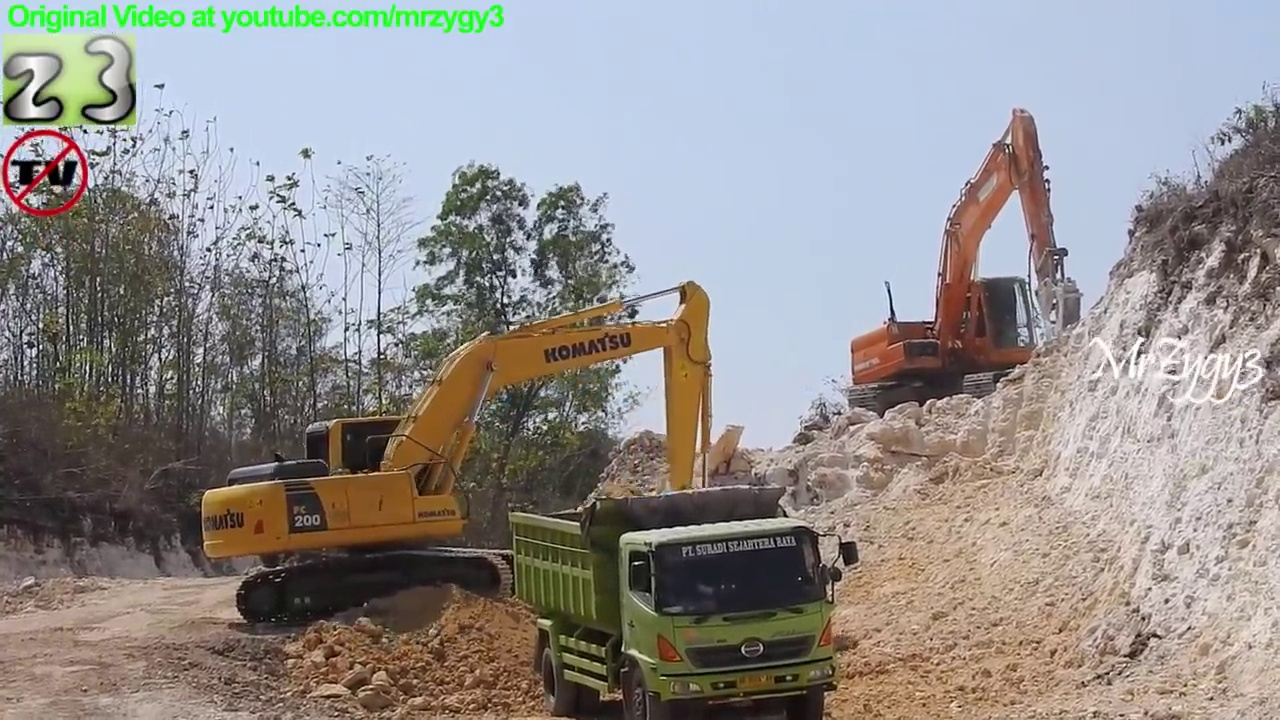excavator: (199, 276, 736, 636), (844, 99, 1091, 423)
truck: (498, 482, 869, 720)
